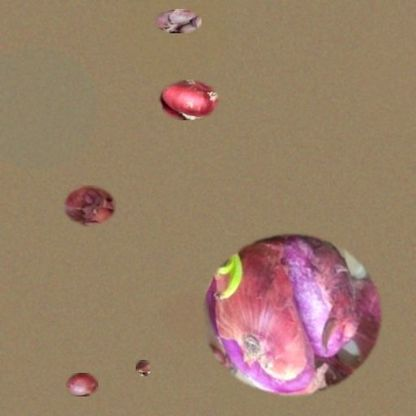damaged: (197, 230, 386, 400)
healthy: (158, 80, 219, 120), (66, 373, 98, 397)
rotten: (63, 185, 116, 227)
sprouted: (154, 9, 201, 33), (136, 360, 150, 376)
